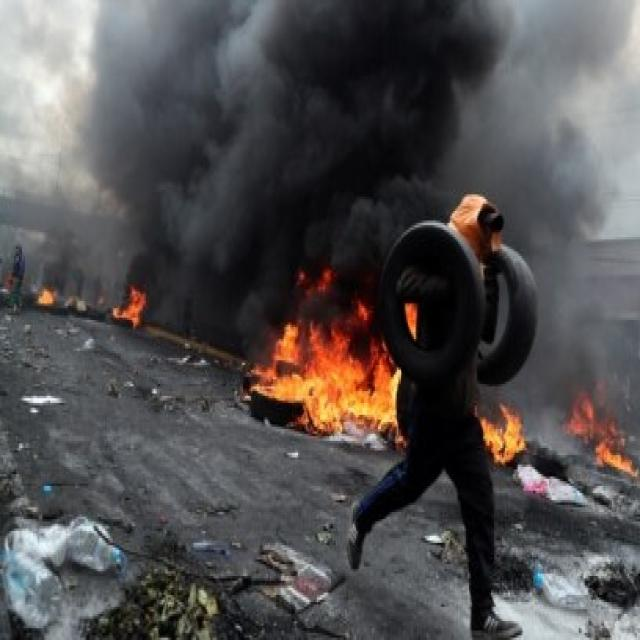fire: (248, 265, 418, 450), (563, 386, 637, 477), (478, 406, 527, 469), (110, 283, 148, 330)
